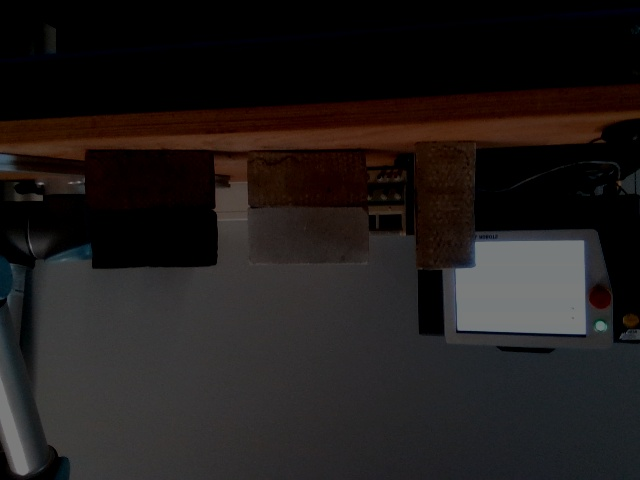brick: (418, 143, 471, 267), (89, 152, 208, 207), (96, 211, 212, 266), (253, 210, 364, 259), (251, 156, 361, 200)
